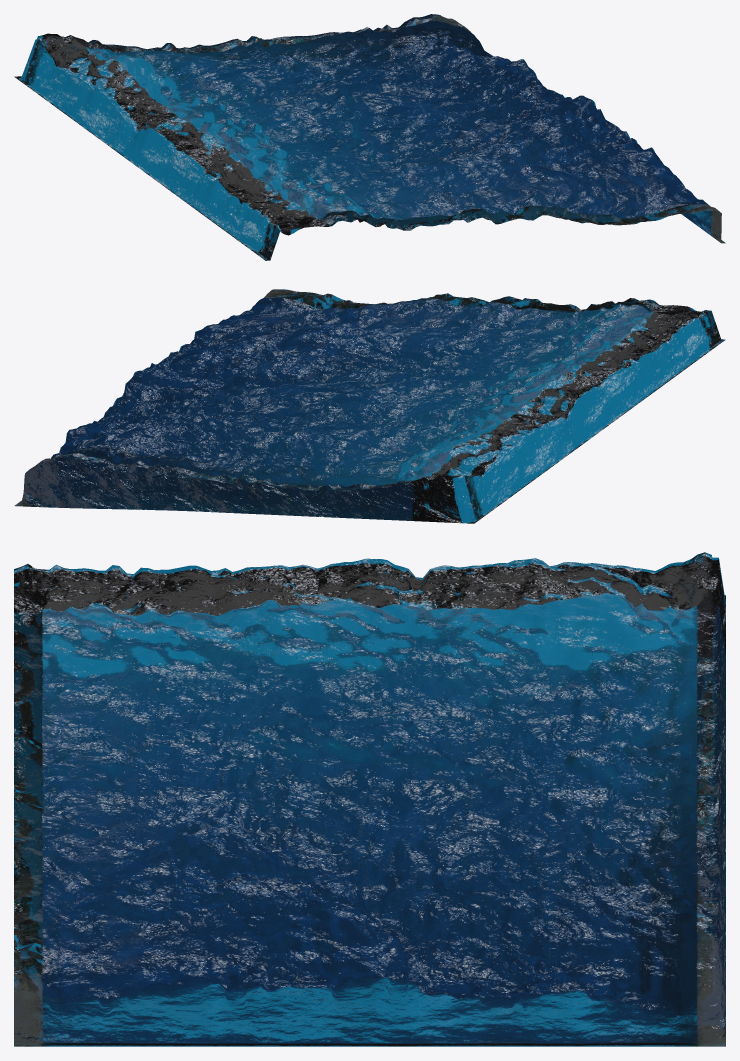
File: water2.glb
3 views of the same model, one above another, from view 1: azimuth 30°, elevation 25°; view 2: azimuth 150°, elevation 25°; view 3: azimuth 270°, elevation 25° (orthographic). The views are drawn at different scales.
Visible parts, largest first — view 1: Plane.002; view 2: Plane.002; view 3: Plane.002.
Part boxes in pixels (x1,y1,x2,y2): Plane.002: (14,14,725,260); Plane.002: (14,289,725,523); Plane.002: (14,552,725,1046).
Bounding box in the file's own units: 2.3 × 0.6353 × 2.18.
Materials: 1 (1 with a texture image).
